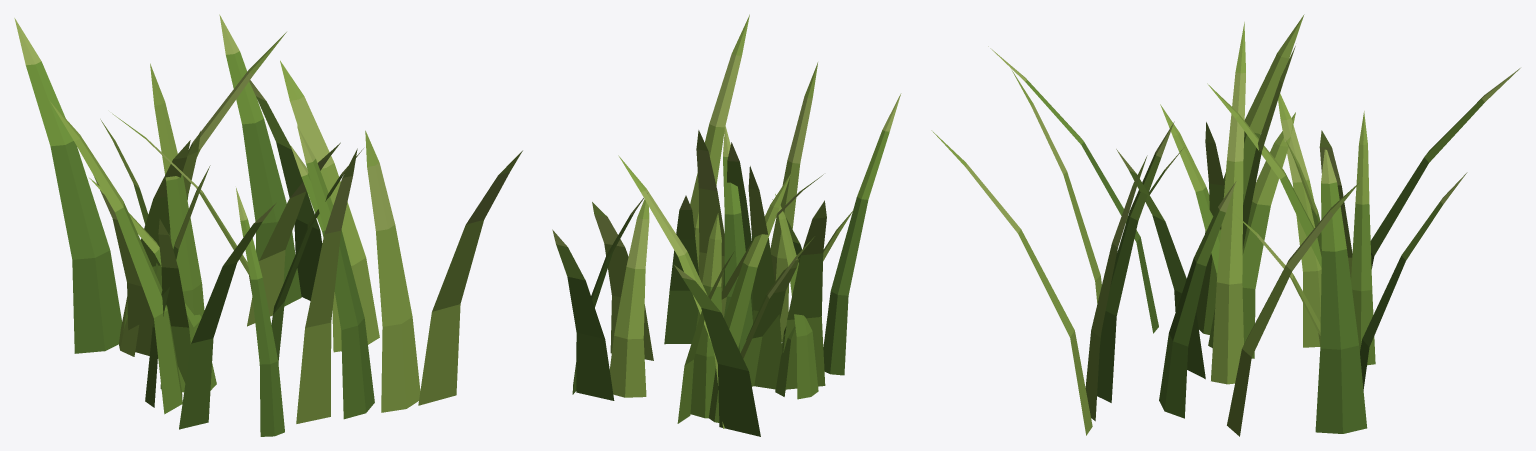
File: grass_tuft_full.glb
The picture shows the model from 3 angles, left to right: view 1: azimuth 30°, elevation 25°; view 2: azimuth 150°, elevation 25°; view 3: azimuth 270°, elevation 25°; orthographic projection. The views are drawn at different scales.
Visible parts, largest first — view 1: grass_tuft_full_blades; view 2: grass_tuft_full_blades; view 3: grass_tuft_full_blades.
Part boxes in pixels (x1,y1,x2,y2): grass_tuft_full_blades: (14,14,522,436); grass_tuft_full_blades: (552,14,901,436); grass_tuft_full_blades: (931,14,1520,436).
Bounding box in the file's own units: 0.2795 × 0.2775 × 0.4907.
